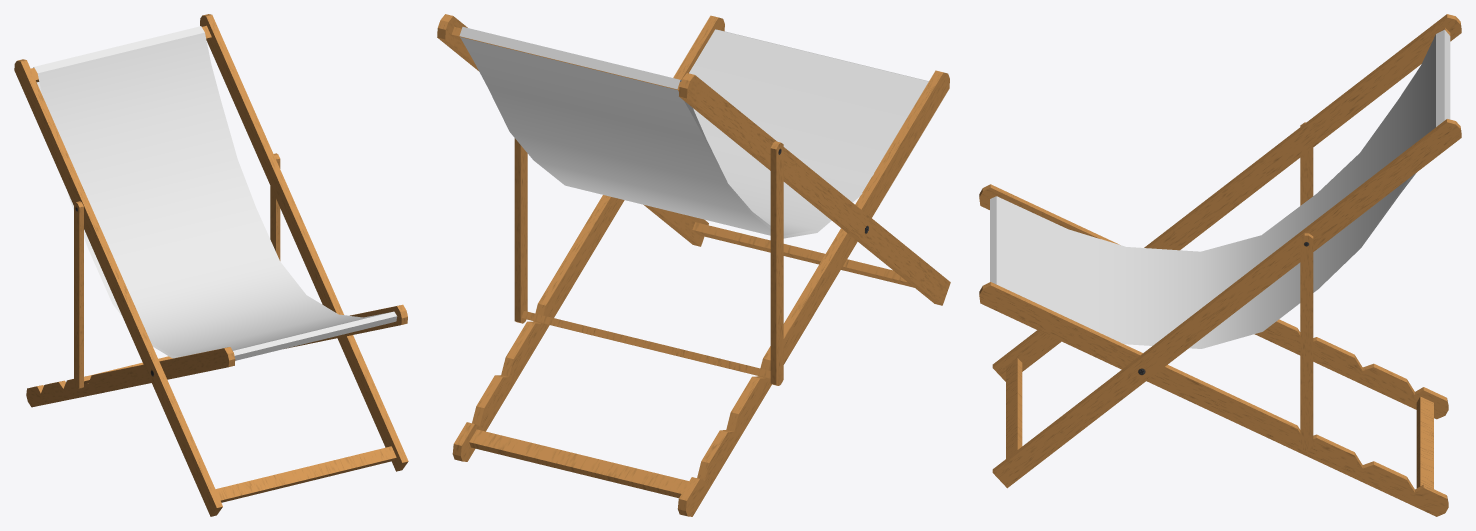
Rendered from leżak.fbx.
3 views of the same model, side by side, from view 1: azimuth 30°, elevation 25°; view 2: azimuth 150°, elevation 25°; view 3: azimuth 270°, elevation 25° (orthographic). The views are drawn at different scales.
Parts seen in each view (by area): view 1: leżak; view 2: leżak; view 3: leżak.
Boxes of the visible parts, x1,y1,x2,y2 form: leżak: (14,14,408,516); leżak: (437,14,950,516); leżak: (979,14,1461,516).
Size of the model in its own units: 92.18 by 151 by 166.
